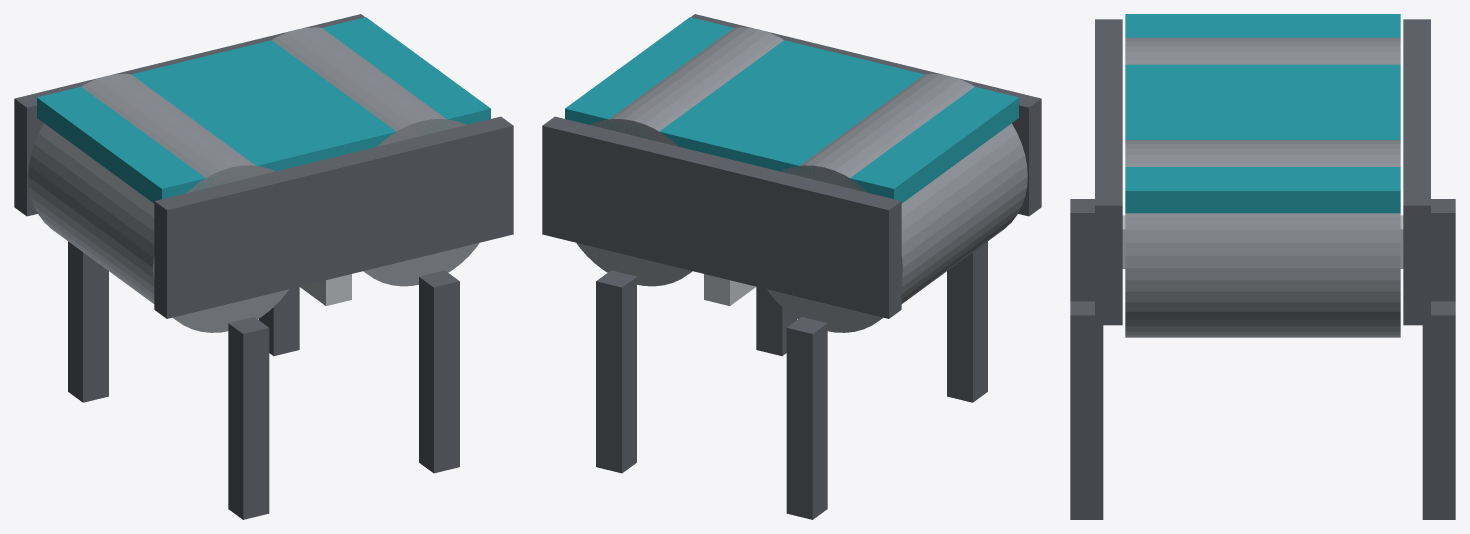
The model's file is transfer-conveyor.glb.
The picture shows the model from 3 angles, left to right: view 1: azimuth 30°, elevation 25°; view 2: azimuth 150°, elevation 25°; view 3: azimuth 270°, elevation 25°; orthographic projection. The views are drawn at different scales.
Visible parts, largest first — view 1: transfer-conveyor; view 2: transfer-conveyor; view 3: transfer-conveyor.
Part boxes in pixels (bbox=[...]): transfer-conveyor: bbox=[14, 14, 513, 519]; transfer-conveyor: bbox=[542, 14, 1041, 519]; transfer-conveyor: bbox=[1070, 14, 1455, 519].
Size of the model in its own units: 0.8 by 0.73 by 0.7.
